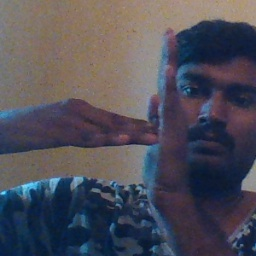Z: (74, 20, 195, 196)
